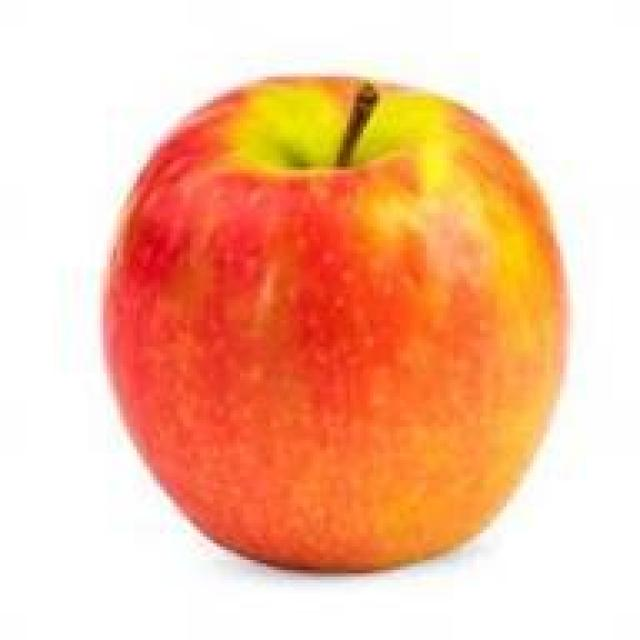apple: (107, 90, 570, 583)
